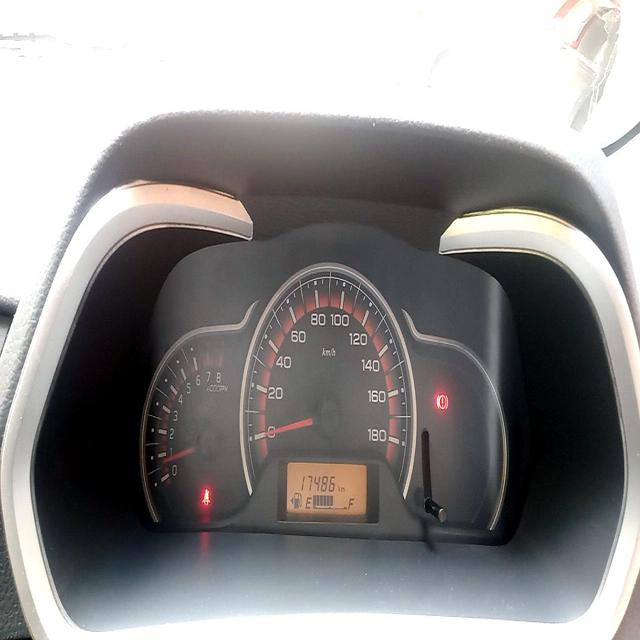odometer: (300, 472, 337, 494)
